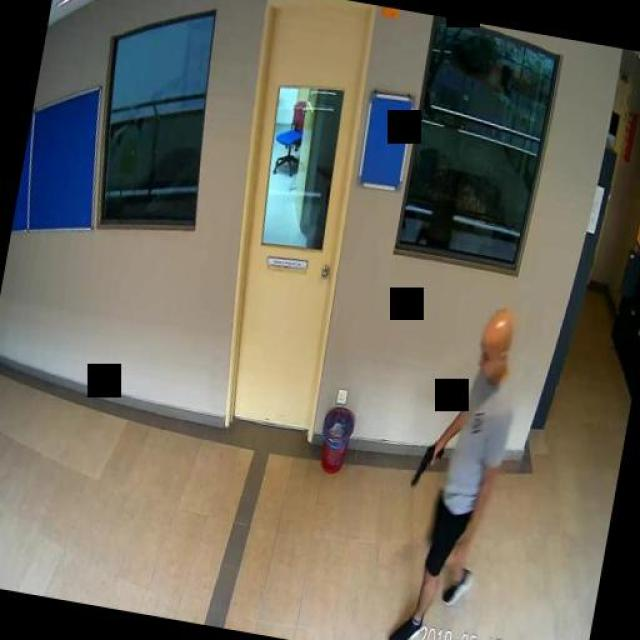gun: (408, 439, 444, 489)
